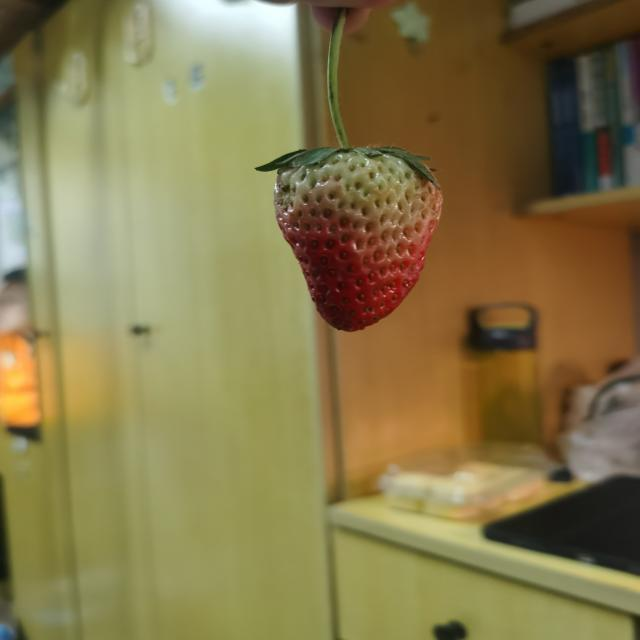stem: (327, 74, 349, 150)
strawberry: (274, 147, 443, 331)
